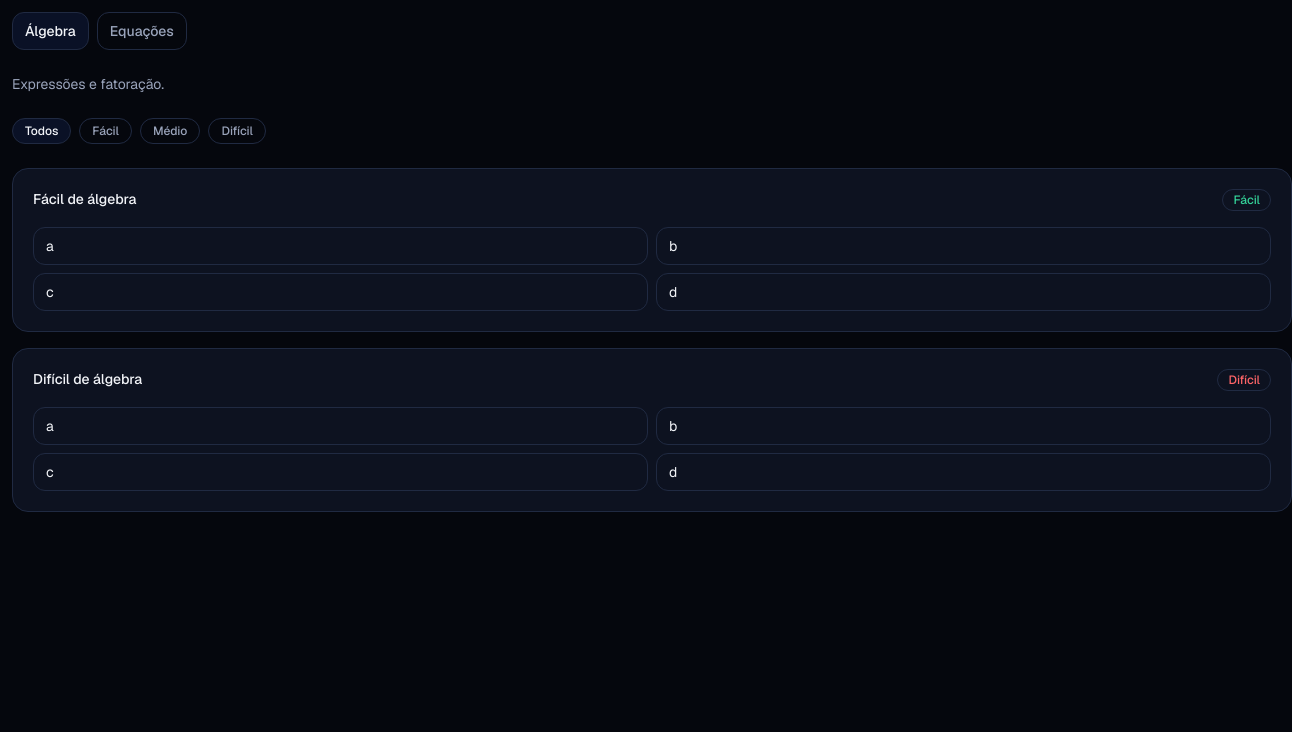
Scenario: ExerciseBrowser › mostra aviso quando a combinação não tem exercícios
This screenshot has width=1292, height=732.
What coordinates should you click on to do the following:
click the button "Equações"
I would click on:
 (142, 31)
Its box is [97,12,187,50].
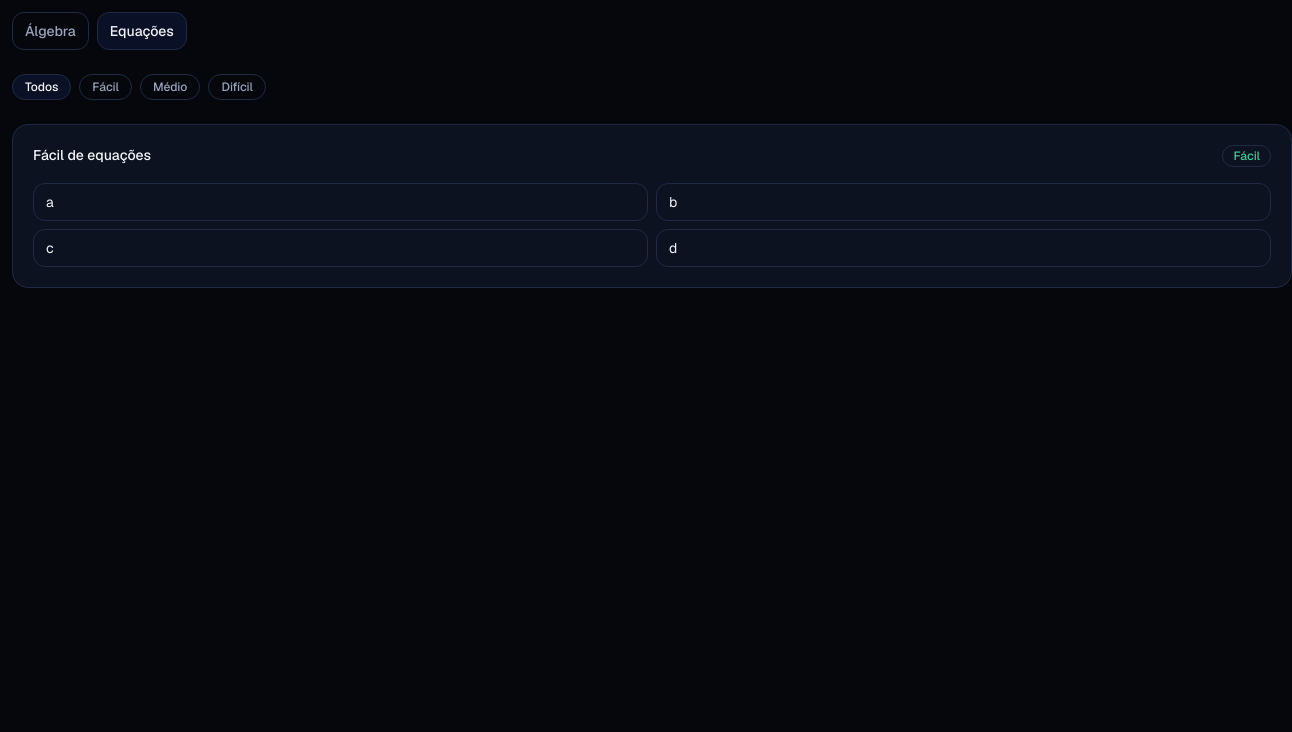
What coordinates should you click on to do the following:
click the button "Difícil"
I would click on:
 (237, 87)
Its box is [208,74,266,100].
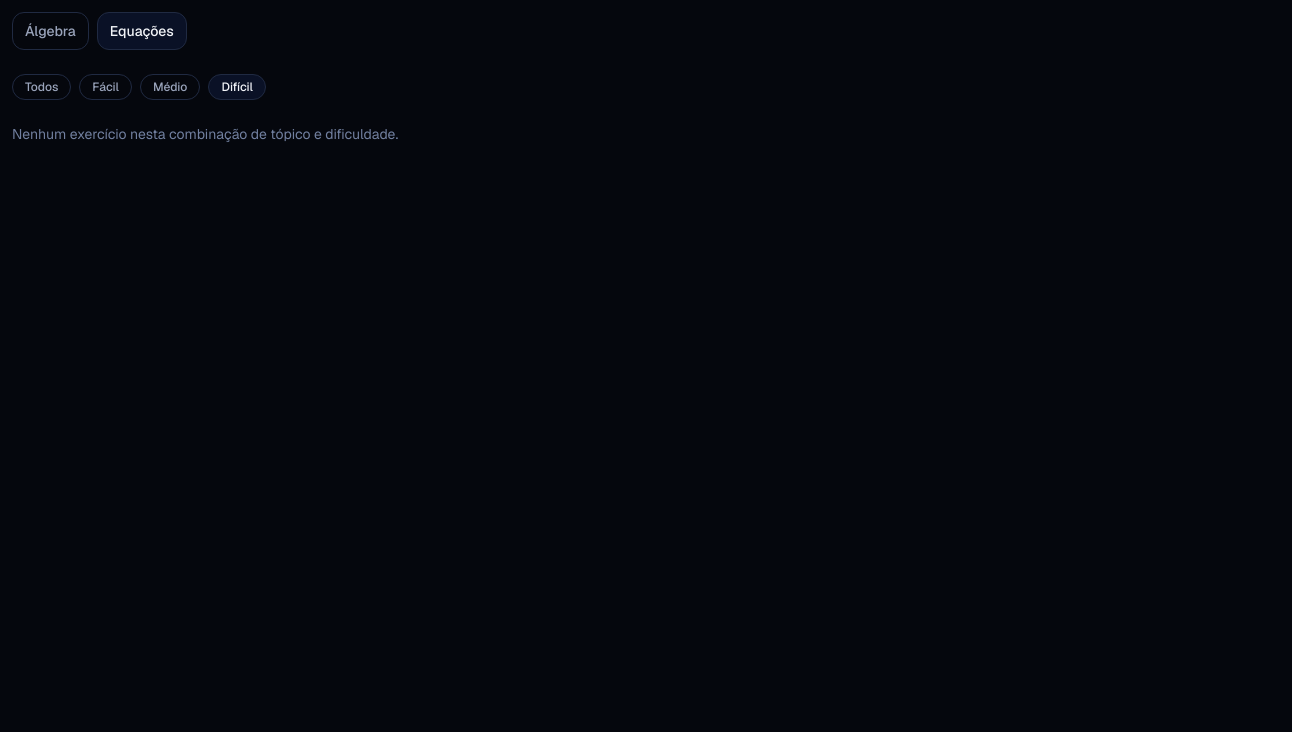
Expected: the text "Nenhum exercício nesta combinação de tópico e dificuldade." is shown, [12,125,398,143]
